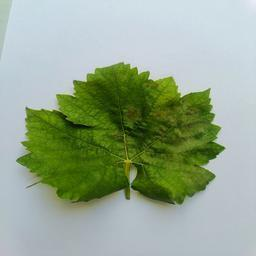Powdery-Mildew: (89, 106, 139, 146), (157, 106, 208, 135), (172, 138, 201, 170), (153, 82, 175, 100)
